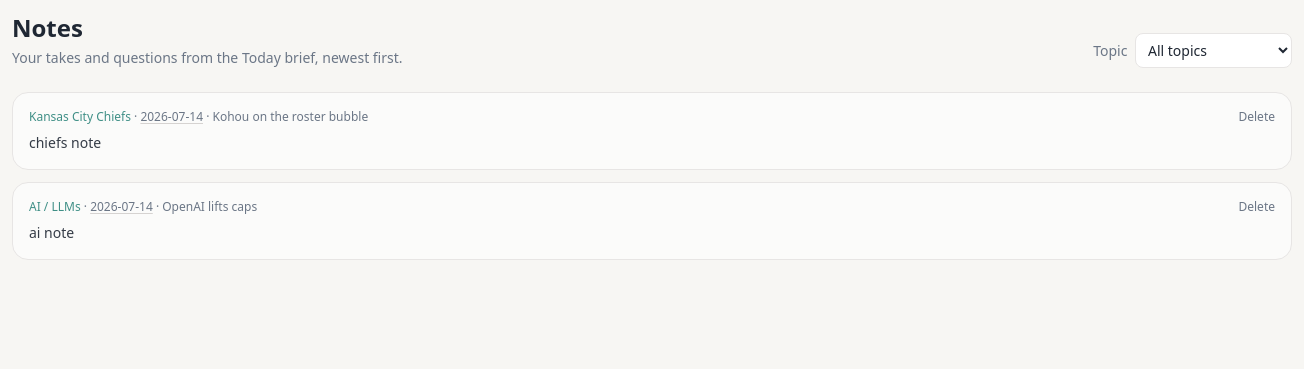
Test: Notes (browse page) › a failed delete reports itself accurately, not as a load failure (#17)
The image size is (1304, 369).
Expected: the text "chiefs note" is shown, x1=29 y1=133 x2=101 y2=152
Click the button with aria-label "Delete note 2".
click(1257, 117)  # box x1=1238 y1=109 x2=1275 y2=125
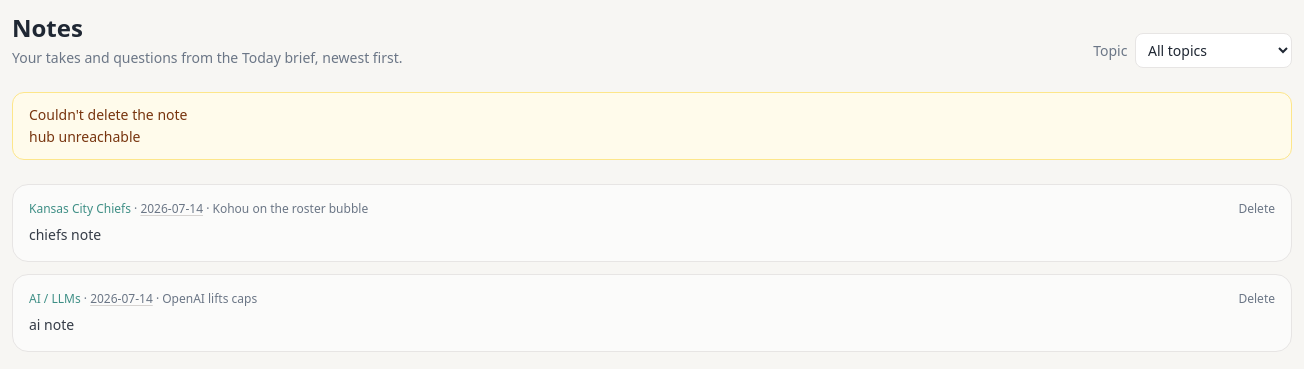
Expected: the text "ai note" is shown, x1=29 y1=315 x2=74 y2=334
Expected: the text "Couldn't delete the note" is shown, x1=29 y1=105 x2=188 y2=124
Expected: the text "hub unreachable" is shown, x1=29 y1=127 x2=140 y2=146
